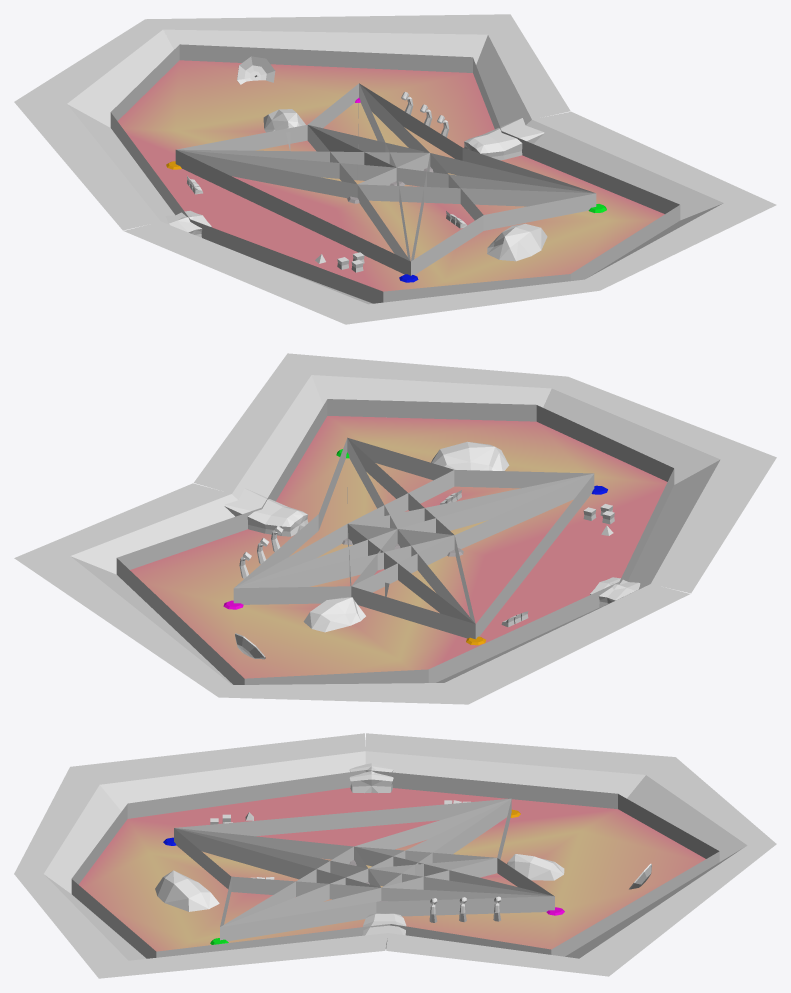
File: Orion.fbx
3 renders of one model, top to bottom at view 1: azimuth 30°, elevation 25°; view 2: azimuth 150°, elevation 25°; view 3: azimuth 270°, elevation 25°, orthographic. The views are drawn at different scales.
Visible parts, largest first — view 1: GeometryWalls, GeometryGround, Pathfinding, Boundary, Decor Rock001, Decor Rock003, Decor Dish, Decor Rock003.001, Decor Rock004; view 2: GeometryWalls, GeometryGround, Pathfinding, Boundary, Decor Rock001, Decor Rock003, Decor Rock003.001, Decor Rock004; view 3: GeometryWalls, GeometryGround, Pathfinding, Boundary, Decor Rock003, Decor Rock004, Decor Rock003.001, Decor Rock001.
Boxes of the visible parts, <box> form: GeometryWalls: <box>14,14,776,324</box>; GeometryGround: <box>117,60,664,291</box>; Pathfinding: <box>175,83,596,275</box>; Boundary: <box>110,44,680,303</box>; Decor Rock001: <box>464,118,544,160</box>; Decor Rock003: <box>487,223,547,261</box>; Decor Dish: <box>237,56,275,84</box>; Decor Rock003.001: <box>263,109,305,132</box>; Decor Rock004: <box>165,210,211,237</box>; GeometryWalls: <box>14,353,776,704</box>; GeometryGround: <box>130,416,667,678</box>; Pathfinding: <box>233,437,594,639</box>; Boundary: <box>116,399,674,684</box>; Decor Rock001: <box>224,488,308,536</box>; Decor Rock003: <box>431,441,509,470</box>; Decor Rock003.001: <box>303,597,365,632</box>; Decor Rock004: <box>590,577,640,607</box>; GeometryWalls: <box>14,733,776,978</box>; GeometryGround: <box>79,787,705,951</box>; Pathfinding: <box>174,798,554,941</box>; Boundary: <box>71,770,719,958</box>; Decor Rock003: <box>155,870,219,911</box>; Decor Rock004: <box>349,763,393,793</box>; Decor Rock003.001: <box>507,854,564,880</box>; Decor Rock001: <box>363,913,406,949</box>.
Size of the model in its own units: 13640 by 1009 by 17919.
